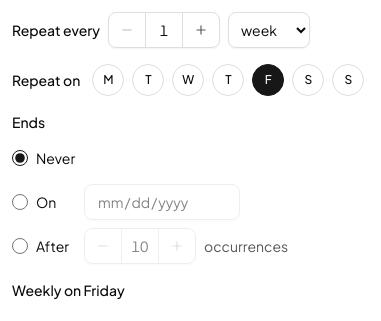
RecurrenceEditor › switches frequency and offers monthly choices from the start date
Select "month" in the dropdown named "Frequency" at x=269, y=30, box [228,12,310,48]
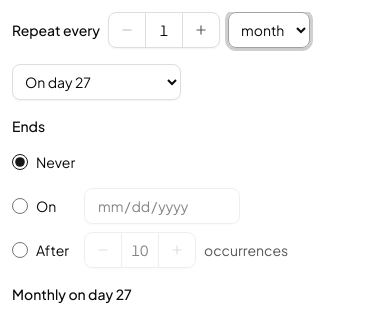
Select "On the last Friday" in the dropdown named "Day of the month" at x=96, y=82, box [12,64,181,100]
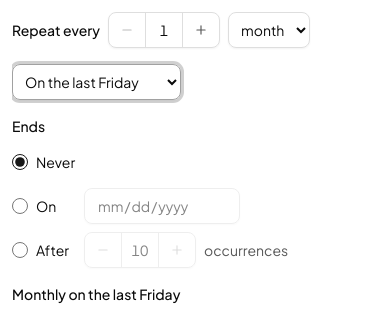
Check: the text "Monthly on the last Friday" is shown, box [12,285,180,303]
